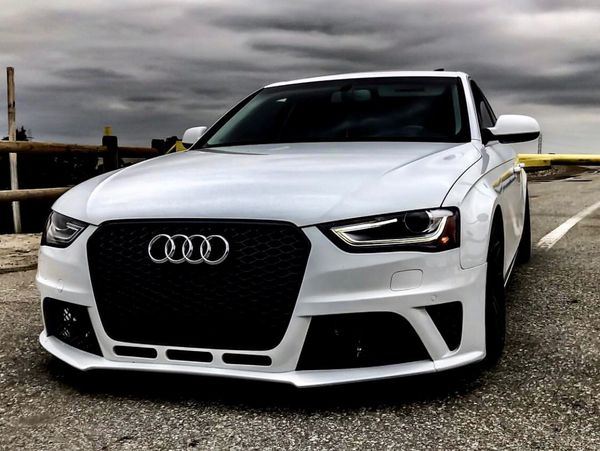audi: (142, 229, 234, 268)
